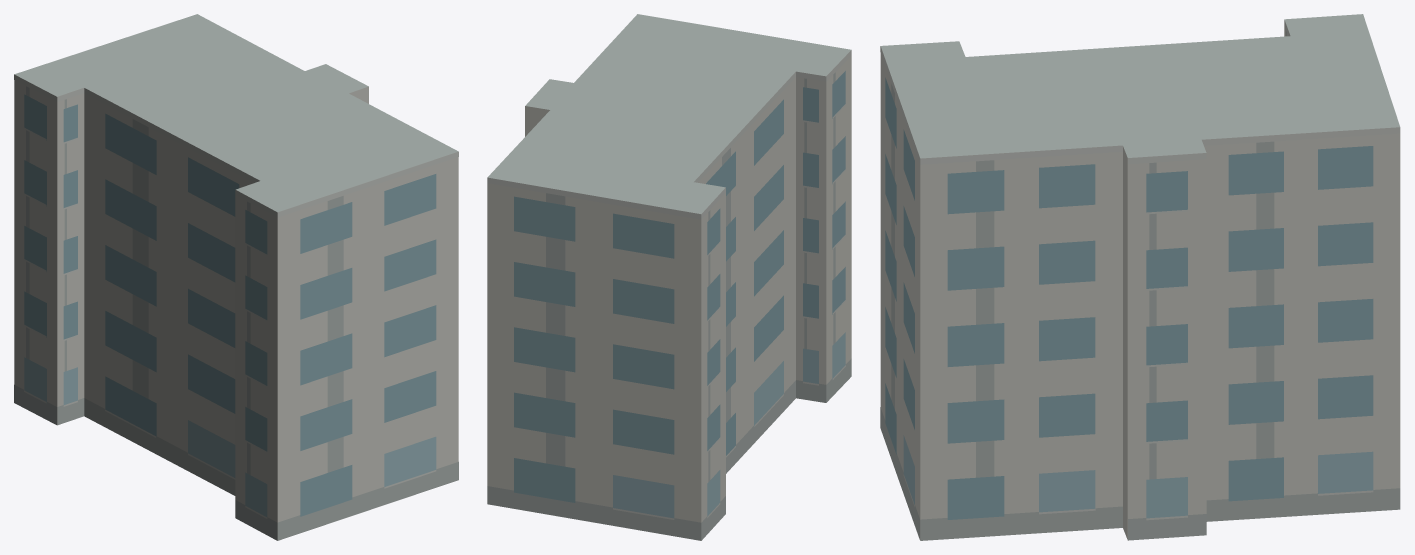
The model's file is survey-upis-32578846.glb.
3 views of the same model, side by side, from view 1: azimuth 30°, elevation 25°; view 2: azimuth 150°, elevation 25°; view 3: azimuth 270°, elevation 25° (orthographic). The views are drawn at different scales.
Parts seen in each view (by area): view 1: survey-upis-32578846.tmp; view 2: survey-upis-32578846.tmp; view 3: survey-upis-32578846.tmp.
Boxes of the visible parts, x1=… form: survey-upis-32578846.tmp: x1=14, y1=14, x2=458, y2=540; survey-upis-32578846.tmp: x1=487, y1=14, x2=851, y2=540; survey-upis-32578846.tmp: x1=880, y1=14, x2=1400, y2=540.
Size of the model in its own units: 11.76 by 14.5 by 17.87.
